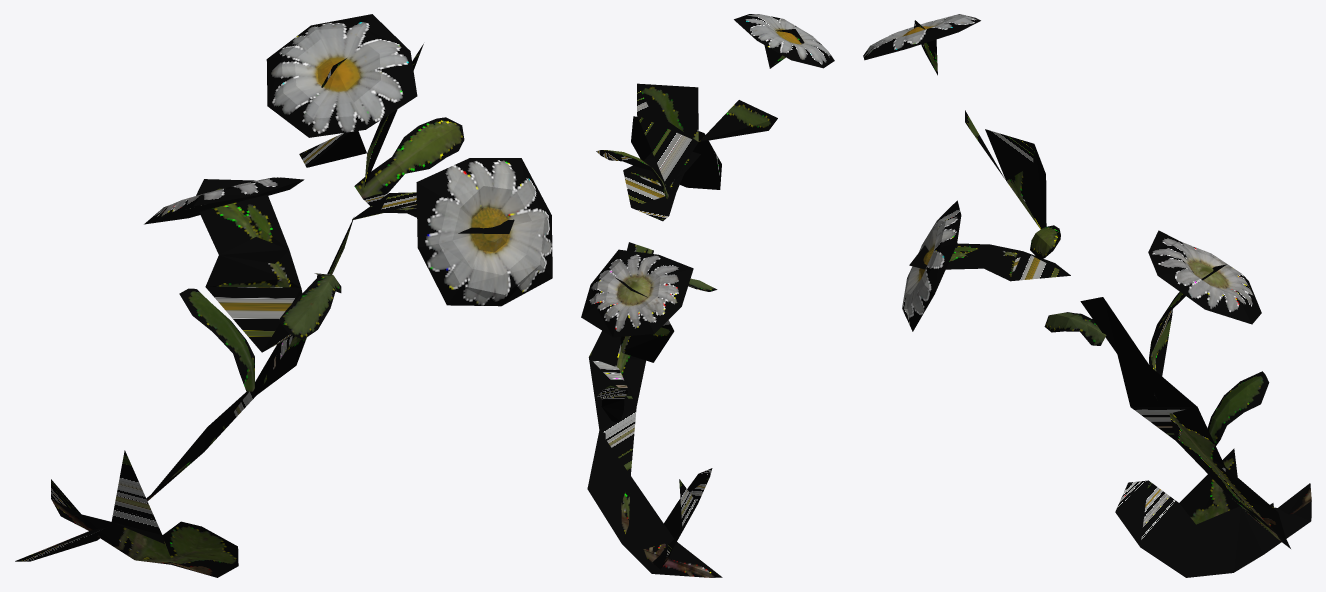
The picture shows the model from 3 angles, left to right: view 1: azimuth 30°, elevation 25°; view 2: azimuth 150°, elevation 25°; view 3: azimuth 270°, elevation 25°; orthographic projection. The views are drawn at different scales.
Visible parts, largest first — view 1: entity_2; view 2: entity_2; view 3: entity_2.
Part boxes in pixels (x1,y1,x2,y2): entity_2: [15, 14, 552, 577]; entity_2: [581, 14, 834, 577]; entity_2: [863, 14, 1311, 577].
Size of the model in its own units: 4.99 by 9.37 by 6.85.
1 material, 1 textured.
